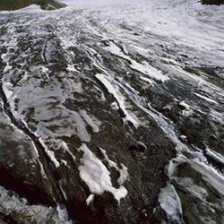neutral: (1, 4, 223, 223)
